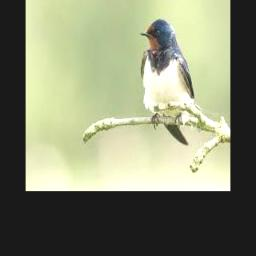Swallow: (139, 19, 194, 145)
